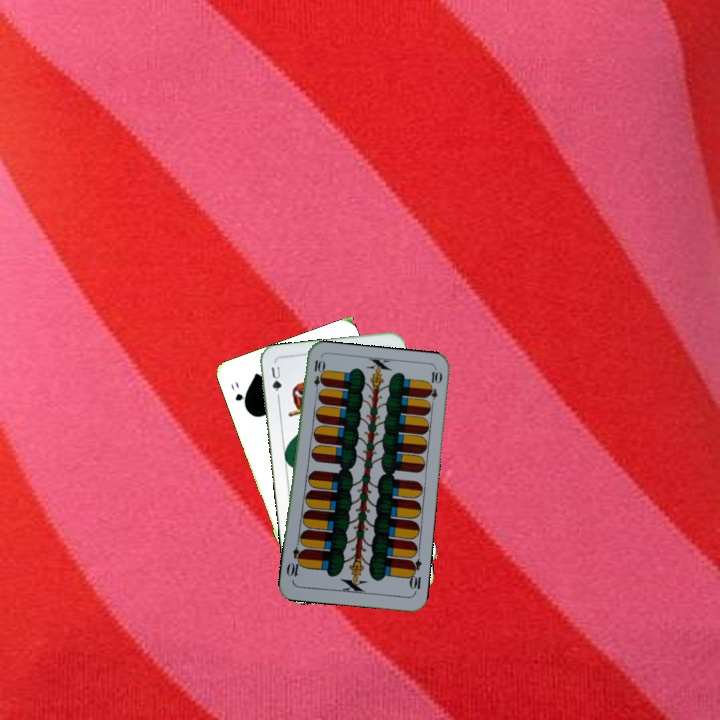E10: (404, 555, 424, 596), (309, 356, 325, 396)
GO: (227, 377, 250, 412)
GU: (267, 362, 284, 400)
